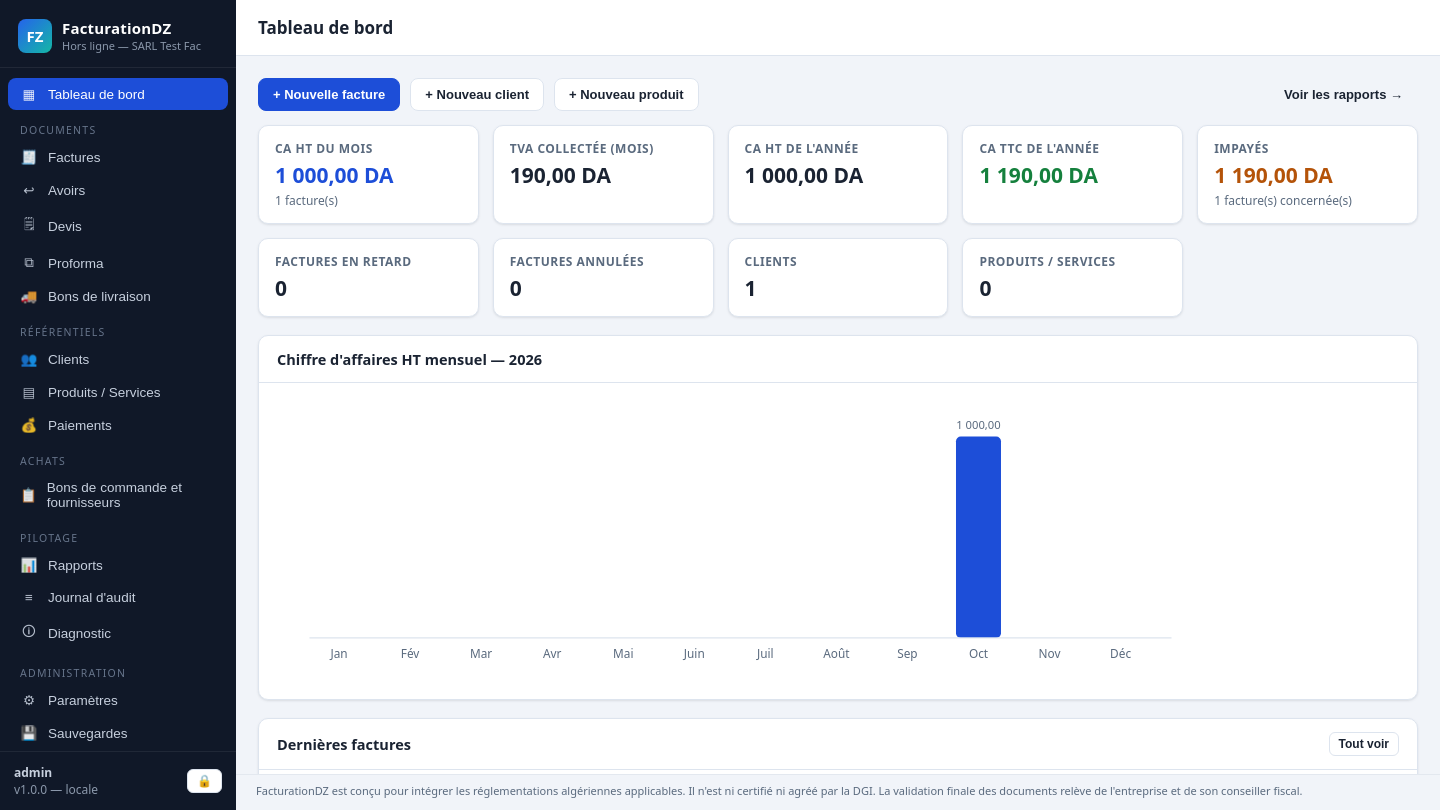
Test: Documents (§27, F-08) › affiche le document validé et permet la recherche par montant
The width and height of the screenshot is (1440, 810).
Step 1. Click the button "🧾 Factures" → (118, 157), box [8,141,228,173]
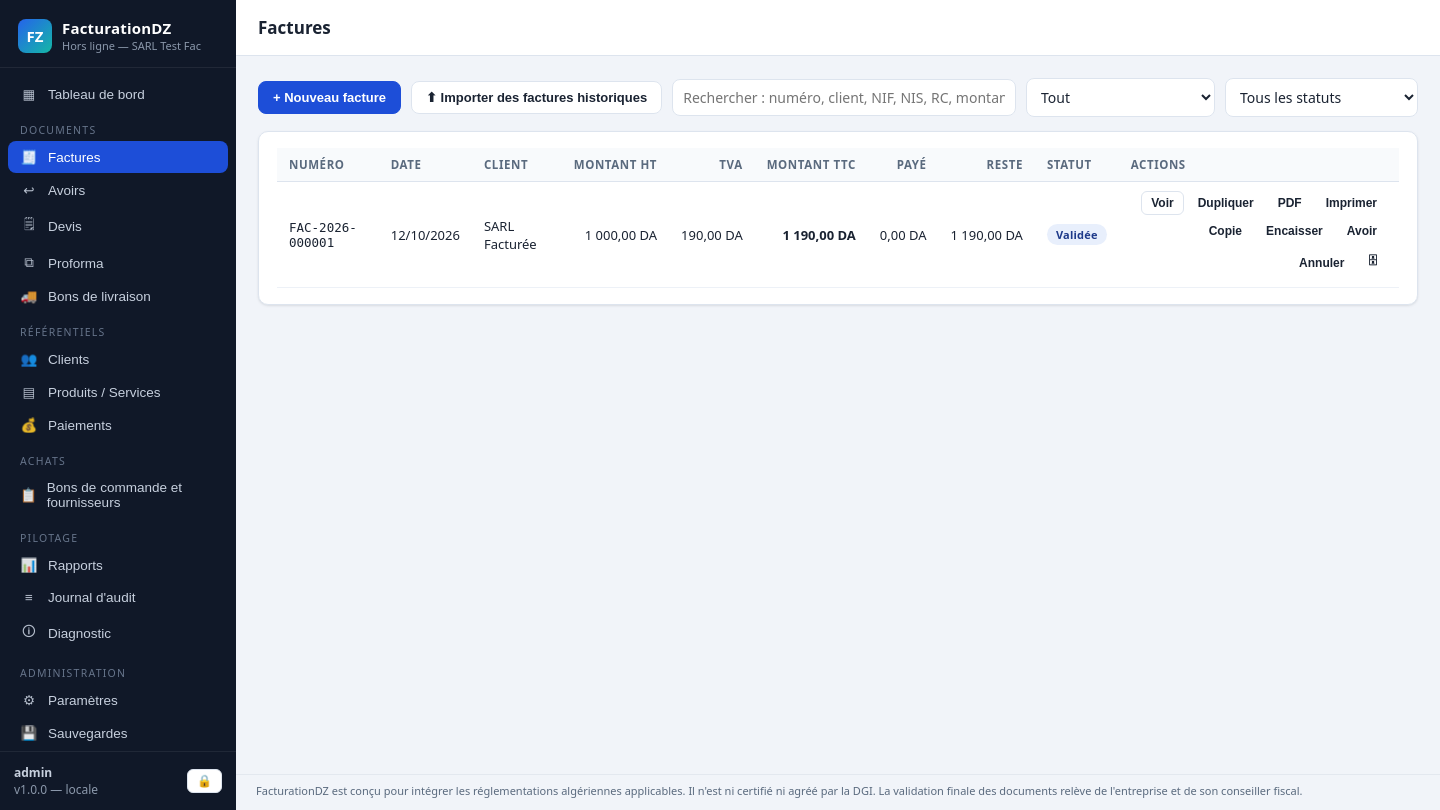
Expected: the text "FAC-2026-000001" is shown, [277,182,379,288]
# Recherche par montant TTC (F-08) — 1 190,00 DA sur l'écran.
Step 2. Replace the text in the field with placeholder "Rechercher : numéro, client" with "1 190,00" → (844, 98), box [672,79,1016,116]
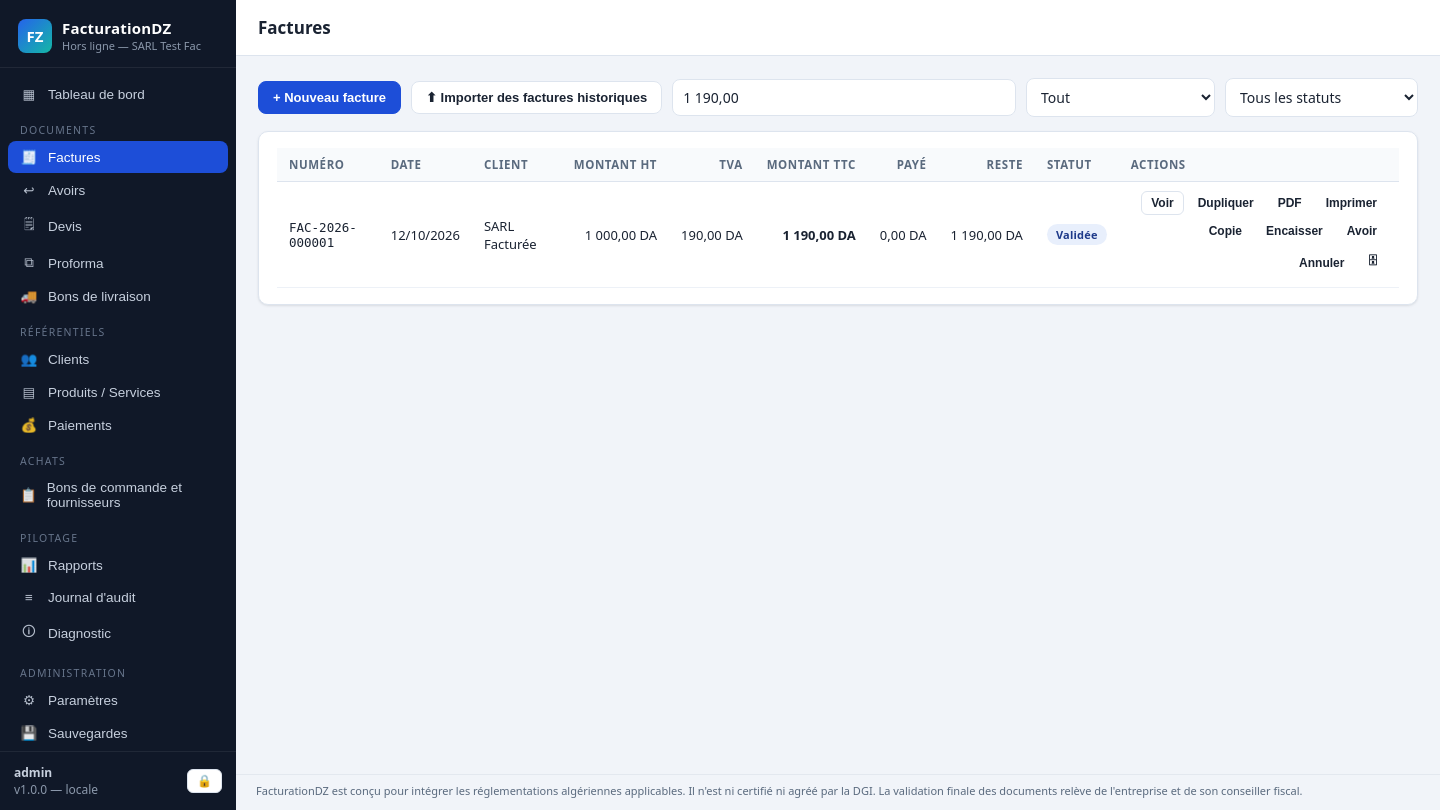
Expected: the text "FAC-2026-000001" is shown, [277,182,379,288]
# Un montant inexistant ne remonte plus rien.
Step 3. Replace the text in the field with placeholder "Rechercher : numéro, client" with "9 999 999,99" → (844, 98), box [672,79,1016,116]
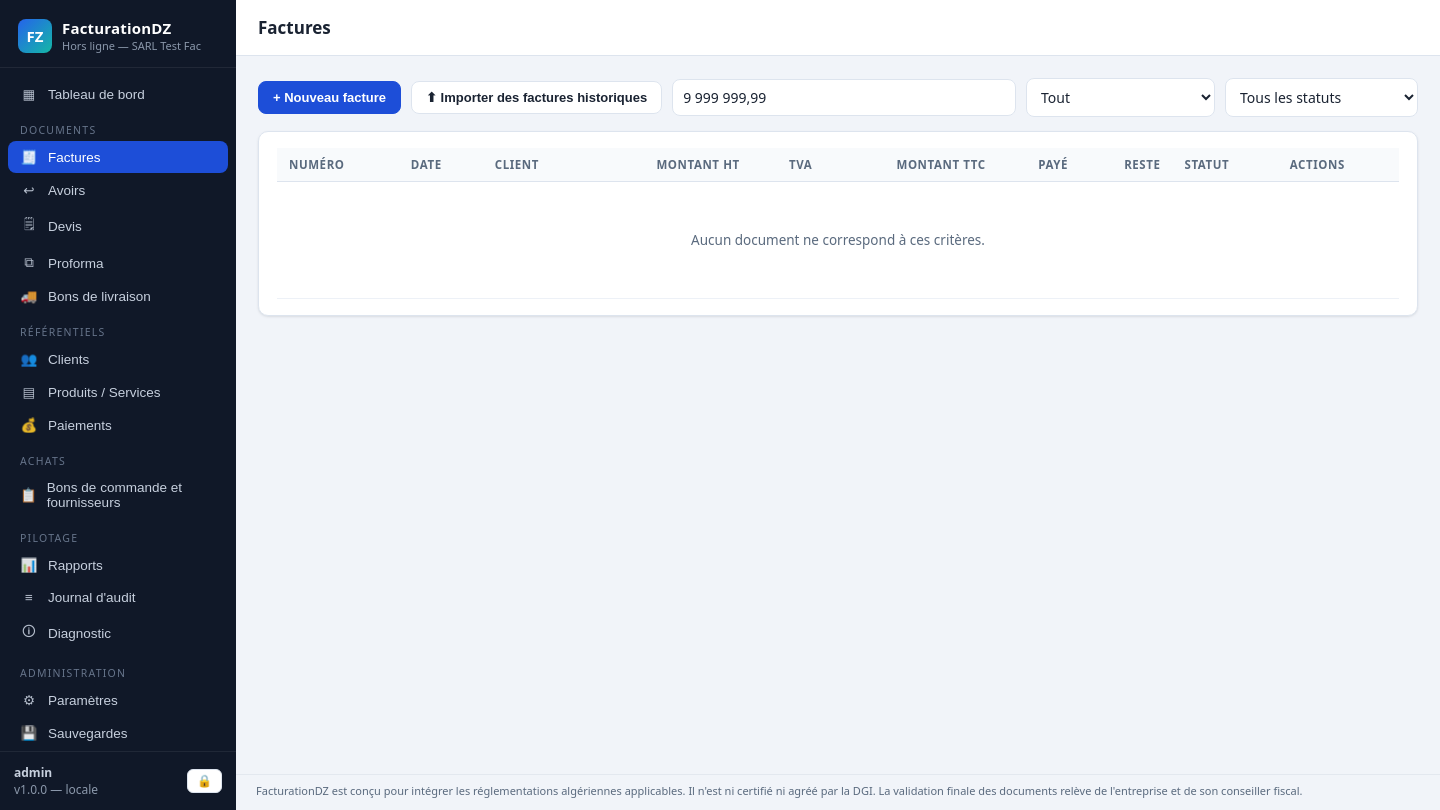
Expected: the text "Aucun document ne correspond à ces critères." is shown, [691,231,985,249]
